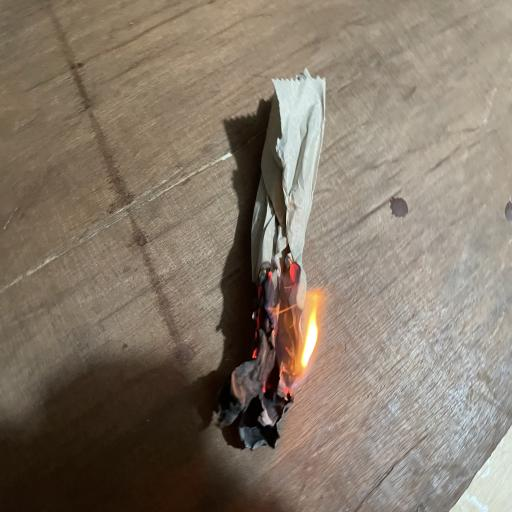fire: (258, 247, 327, 396), (219, 321, 247, 371)
